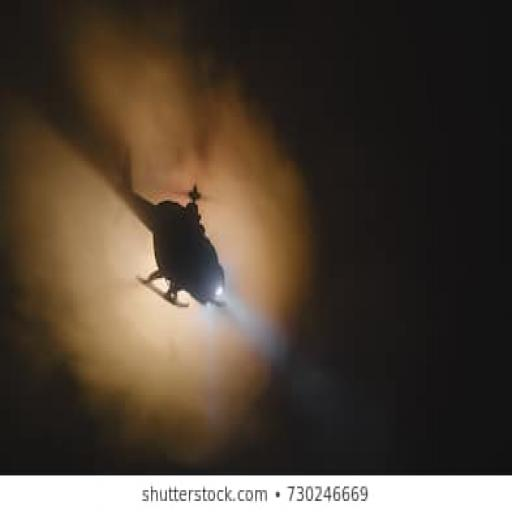helicopter: (109, 138, 247, 319)
